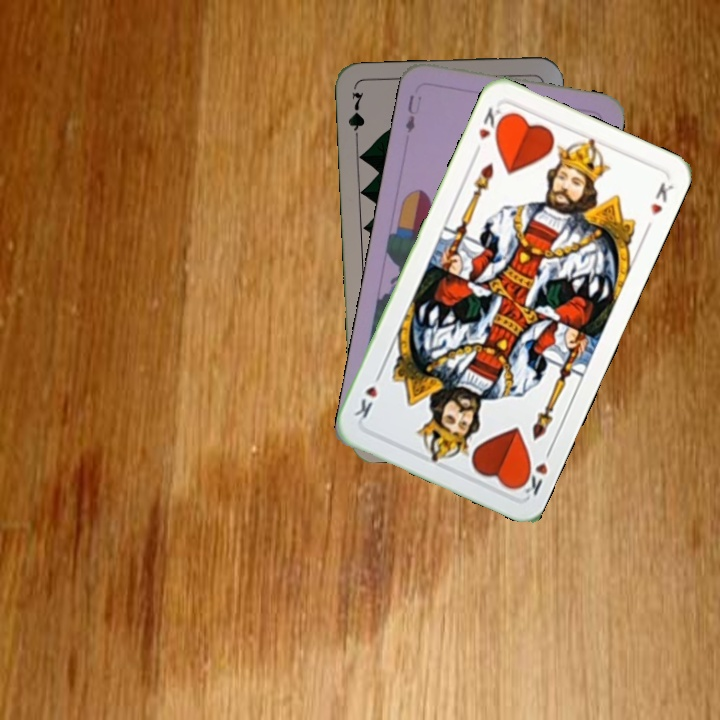EU: (401, 90, 424, 136)
G7: (344, 88, 368, 147)
HK: (515, 443, 555, 499), (469, 103, 508, 157)
